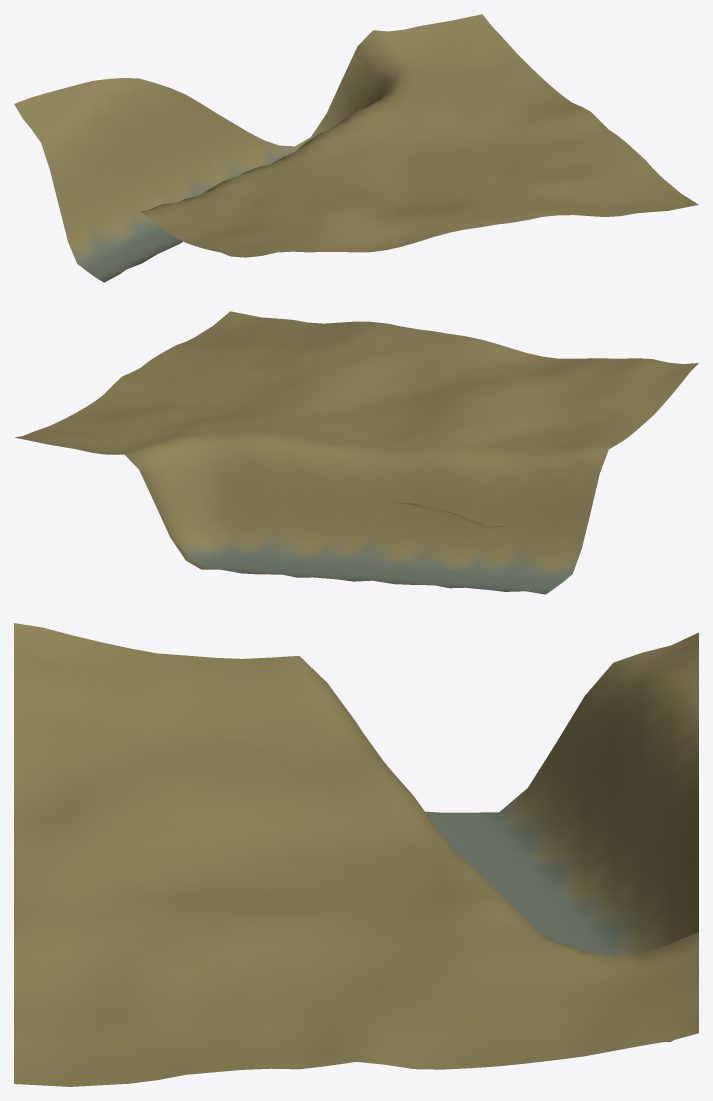
The picture shows the model from 3 angles, top to bottom: view 1: azimuth 30°, elevation 25°; view 2: azimuth 150°, elevation 25°; view 3: azimuth 270°, elevation 25°; orthographic projection. The views are drawn at different scales.
Visible parts, largest first — view 1: world-ground/210-48; view 2: world-ground/210-48; view 3: world-ground/210-48.
Part boxes in pixels (x1,y1,x2,y2): world-ground/210-48: (14, 14, 698, 282); world-ground/210-48: (15, 311, 698, 594); world-ground/210-48: (14, 623, 698, 1086).
Bounding box in the file's own units: 37.5 × 9.16 × 30.
